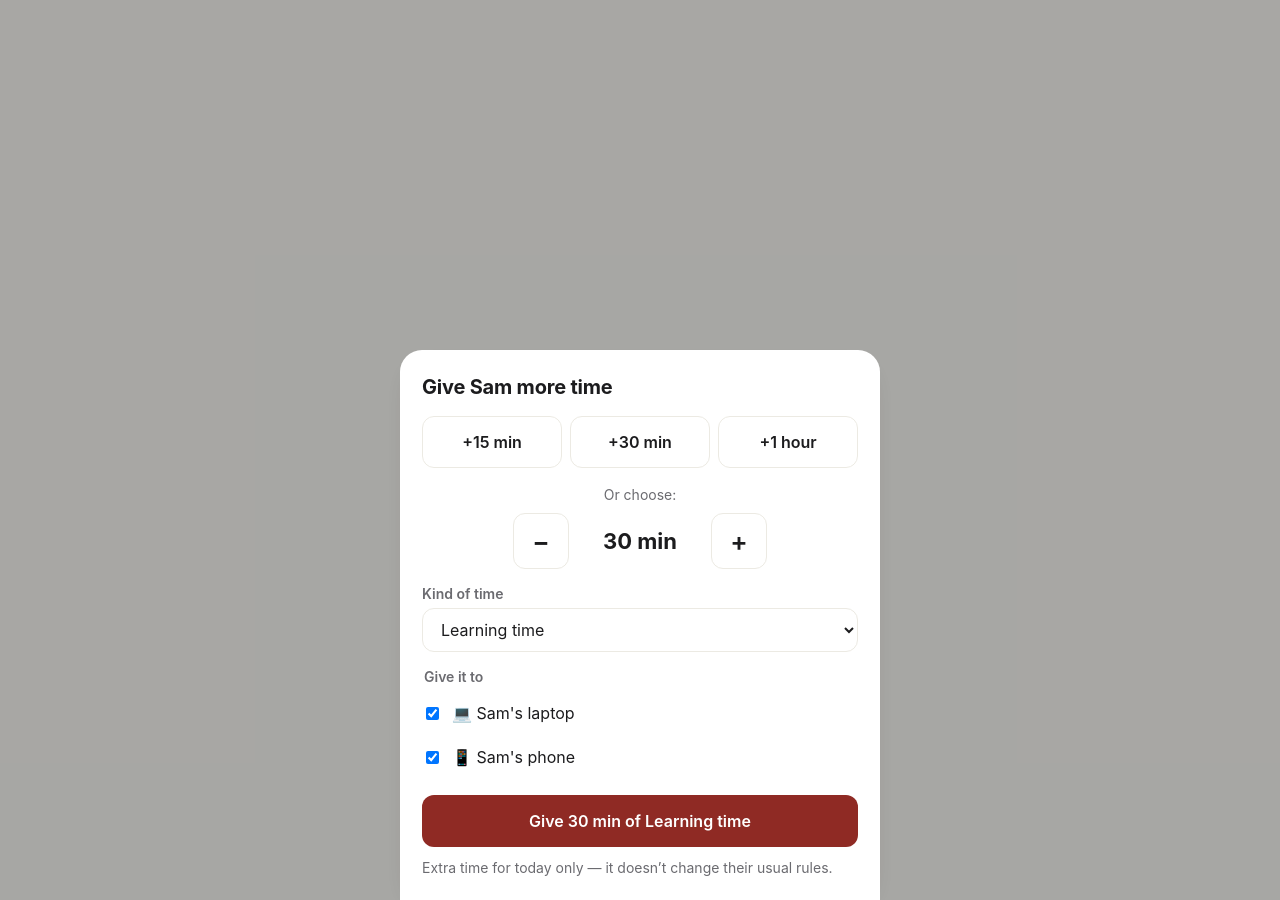
Test: More time with times › hides the group picker for a typed gift (a gift tops up one pool)
This screenshot has width=1280, height=900.
Expected: the text "Add it to" is not shown
Select "Free time" in the dropdown labelled "Kind of time": coordinates (640, 630) top-left (422, 608), bottom-right (858, 652)
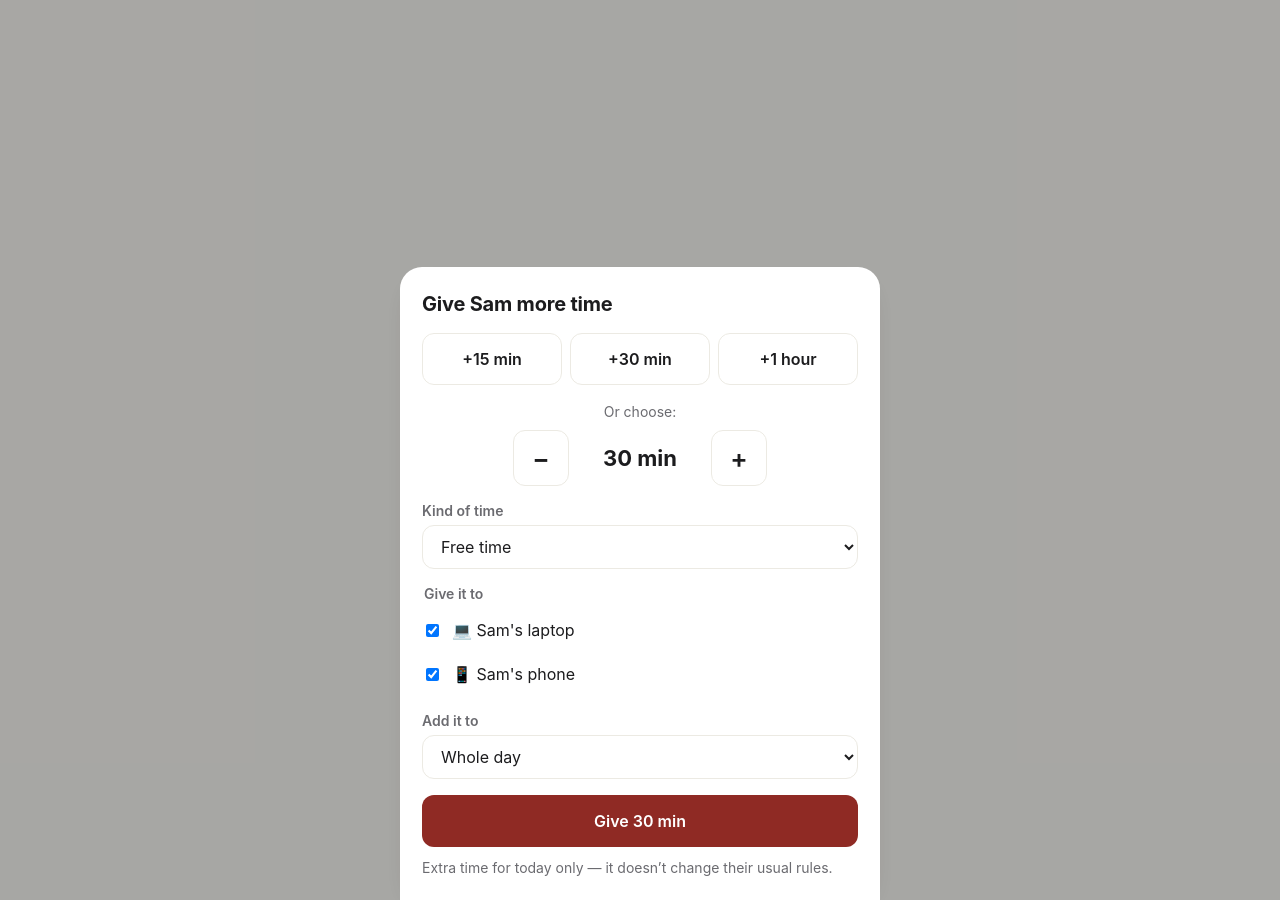
Expected: the text "Add it to" is shown, top-left (422, 712), bottom-right (478, 729)
